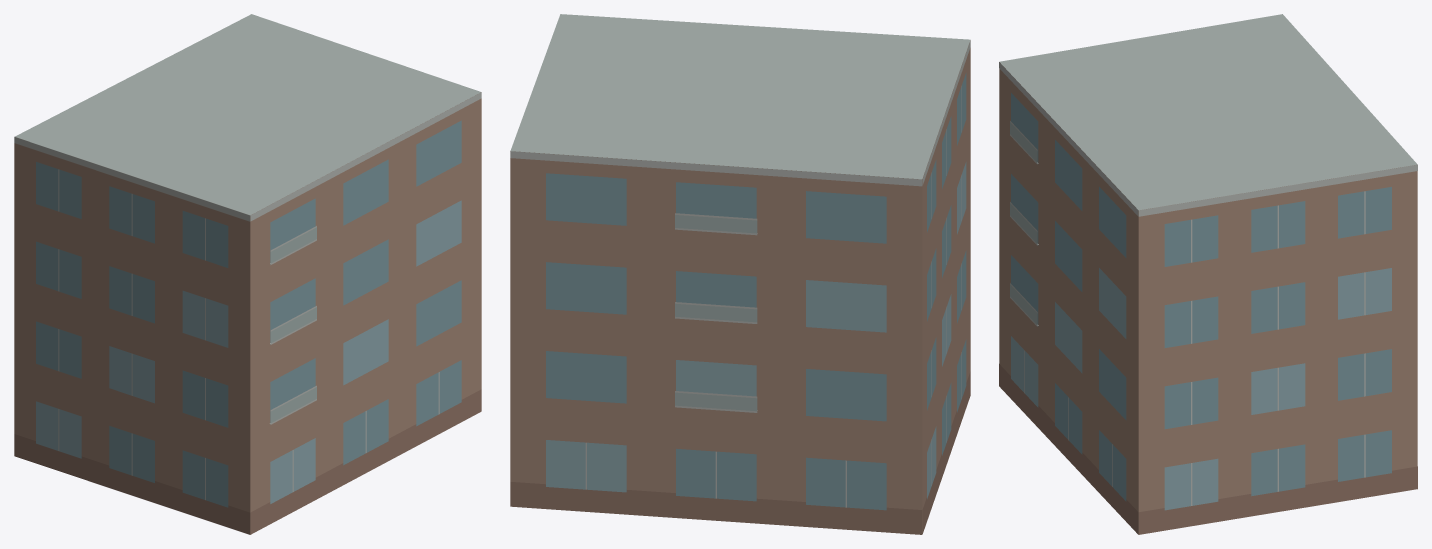
Rendered from survey-upis-32844658.glb.
3 views of the same model, side by side, from view 1: azimuth 30°, elevation 25°; view 2: azimuth 150°, elevation 25°; view 3: azimuth 270°, elevation 25° (orthographic). The views are drawn at different scales.
Visible parts, largest first — view 1: survey-upis-32844658.tmp; view 2: survey-upis-32844658.tmp; view 3: survey-upis-32844658.tmp.
Part boxes in pixels (x1,y1,x2,y2): survey-upis-32844658.tmp: (14, 14, 481, 534); survey-upis-32844658.tmp: (510, 14, 970, 534); survey-upis-32844658.tmp: (999, 14, 1417, 534).
Bounding box in the file's own units: 16.04 × 12.35 × 14.45.
